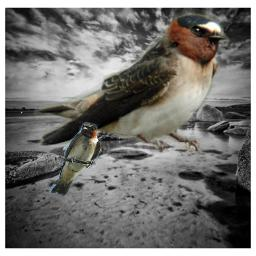Swallow: (34, 8, 233, 155), (49, 122, 101, 196)
